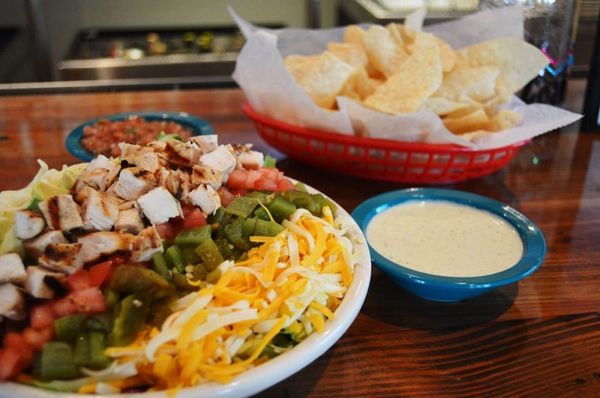sushi: (0, 124, 373, 393), (230, 10, 586, 185), (350, 185, 546, 304)
